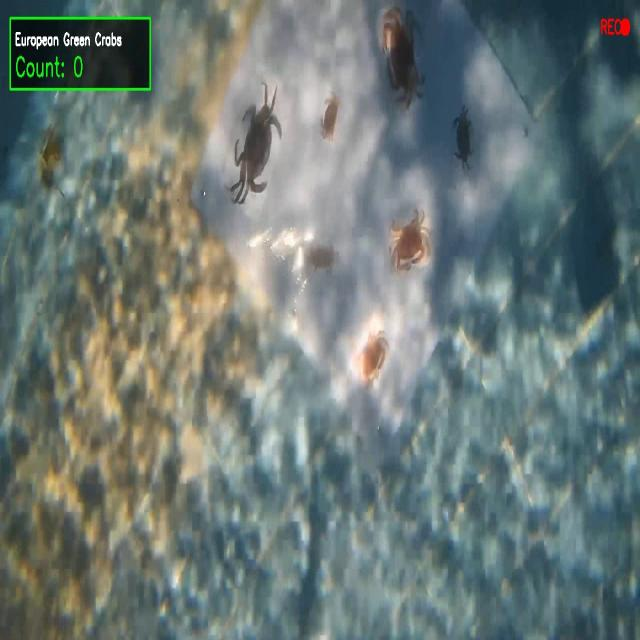European_Green_Crab: (221, 67, 289, 221), (450, 99, 478, 178), (306, 233, 337, 284)
